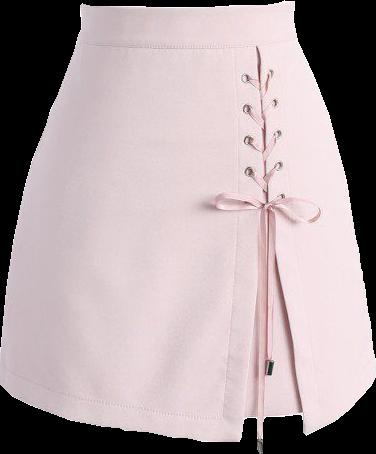Hemline: (0, 50, 375, 444), (244, 410, 305, 420)
Waistline: (75, 32, 297, 53), (78, 0, 294, 12)
